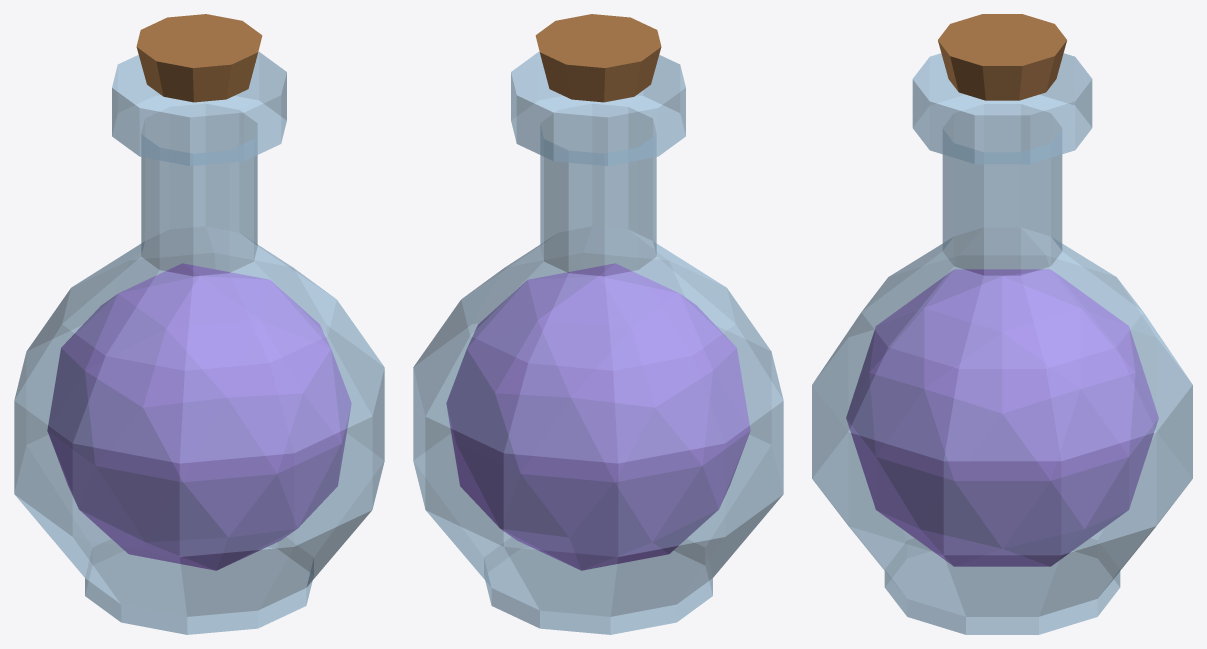
The model's file is Potion.glb.
3 views of the same model, side by side, from view 1: azimuth 30°, elevation 25°; view 2: azimuth 150°, elevation 25°; view 3: azimuth 270°, elevation 25° (orthographic).
Parts seen in each view (by area): view 1: Potion B; view 2: Potion B; view 3: Potion B.
Boxes of the visible parts, x1,y1,x2,y2 form: Potion B: (14, 14, 384, 634); Potion B: (413, 14, 783, 634); Potion B: (812, 14, 1192, 634).
Size of the model in its own units: 0.2316 by 0.3863 by 0.2435.
